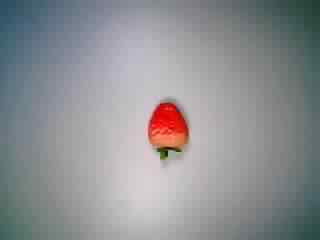strawberry: (130, 100, 198, 164)
